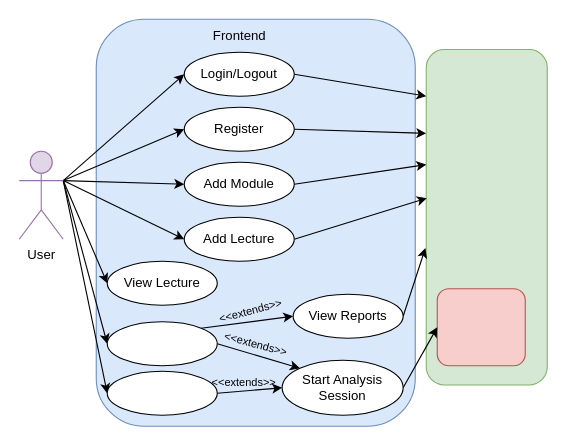
Image size: 567x446. Some labels were removed from this diagram. The box of each missing label's shape, as (x1, y1, x2, y2) in pixels:
Backend: (425, 48, 547, 385)
Microservice: (436, 288, 525, 366)
View Module: (106, 321, 217, 366)
View Timetable: (106, 370, 217, 415)
